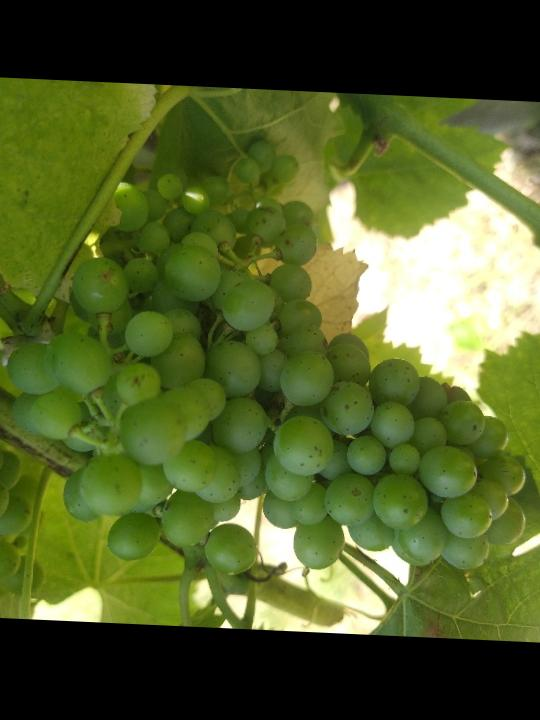grape: (0, 126, 540, 591)
